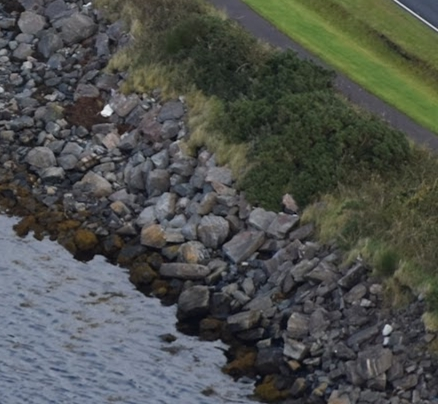white_in_green: (88, 94, 126, 130), (368, 313, 407, 348)
